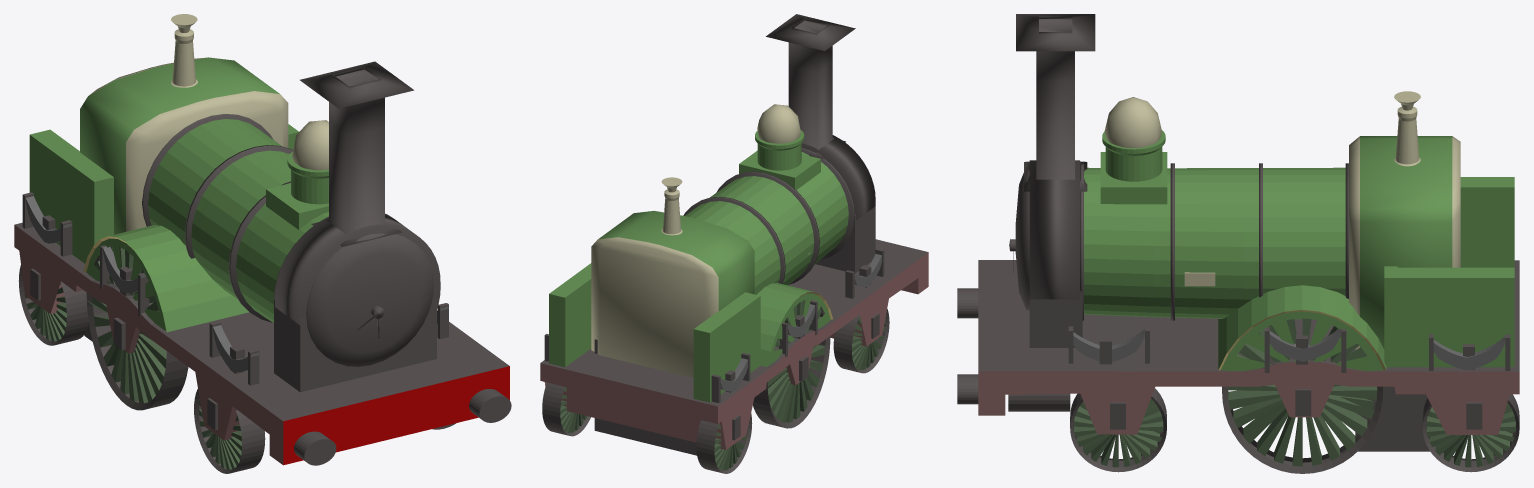
The model's file is gnr-wilson-single.dae.
The picture shows the model from 3 angles, left to right: view 1: azimuth 30°, elevation 25°; view 2: azimuth 150°, elevation 25°; view 3: azimuth 270°, elevation 25°; orthographic projection. The views are drawn at different scales.
Visible parts, largest first — view 1: Cube_029, Cylinder_032, Cube_027, Cylinder_031, Cube_030, Cylinder_023, Cube_024, Cylinder_030, Cube, Cylinder_033, Cylinder_029, Cylinder_000 (+8 smaller); view 2: Cube_027, Cube_029, Cylinder_032, Cube_024, Cube_030, Cylinder_030, Cylinder_028, Cylinder_023, Cylinder_029, Cylinder_033, Cylinder_000, Cube (+7 smaller); view 3: Cube_029, Cylinder_032, Cube_024, Cube_027, Cylinder_030, Cube_030, Cylinder_023, Cylinder_033, Cylinder_000, Cylinder_028, Cube_026, Cube (+10 smaller).
Boxes of the visible parts, x1=… form: Cube_029: x1=14, y1=222, x2=511, y2=465; Cylinder_032: x1=148, y1=119, x2=328, y2=322; Cube_027: x1=80, y1=57, x2=288, y2=234; Cylinder_031: x1=306, y1=233, x2=433, y2=366; Cube_030: x1=300, y1=61, x2=413, y2=246; Cylinder_023: x1=83, y1=225, x2=249, y2=332; Cube_024: x1=29, y1=124, x2=298, y2=263; Cylinder_030: x1=86, y1=246, x2=188, y2=410; Cube: x1=274, y1=285, x2=436, y2=392; Cylinder_033: x1=274, y1=213, x2=440, y2=325; Cylinder_029: x1=142, y1=114, x2=295, y2=322; Cylinder_000: x1=194, y1=389, x2=265, y2=473; Cube_027: x1=591, y1=211, x2=754, y2=377; Cube_029: x1=540, y1=239, x2=928, y2=449; Cylinder_032: x1=685, y1=152, x2=848, y2=294; Cube_024: x1=549, y1=263, x2=760, y2=402; Cube_030: x1=766, y1=14, x2=855, y2=159; Cylinder_030: x1=753, y1=299, x2=830, y2=428; Cylinder_028: x1=542, y1=382, x2=752, y2=473; Cylinder_023: x1=757, y1=283, x2=832, y2=366; Cylinder_029: x1=683, y1=147, x2=854, y2=284; Cylinder_033: x1=801, y1=135, x2=875, y2=220; Cylinder_000: x1=833, y1=309, x2=889, y2=373; Cube: x1=815, y1=206, x2=875, y2=273; Cube_029: x1=957, y1=260, x2=1519, y2=434; Cylinder_032: x1=1084, y1=167, x2=1345, y2=319; Cube_024: x1=1384, y1=177, x2=1514, y2=367; Cube_027: x1=1349, y1=136, x2=1460, y2=349; Cylinder_030: x1=1222, y1=318, x2=1382, y2=473; Cube_030: x1=1016, y1=14, x2=1095, y2=191; Cylinder_023: x1=1218, y1=285, x2=1386, y2=370; Cylinder_033: x1=1029, y1=160, x2=1079, y2=299; Cylinder_000: x1=1070, y1=388, x2=1166, y2=472; Cylinder_028: x1=1422, y1=394, x2=1519, y2=472; Cube_026: x1=1355, y1=386, x2=1429, y2=451; Cube: x1=1029, y1=291, x2=1082, y2=347.
Size of the model in its own units: 1.76 by 3.65 by 2.82.
